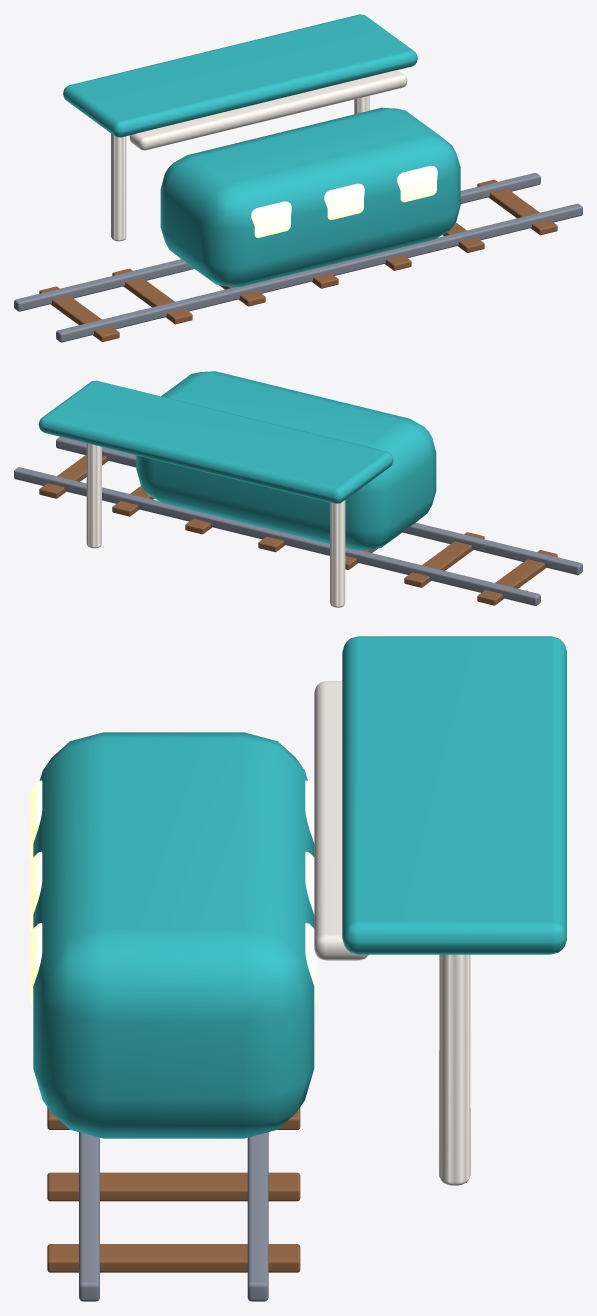
Rendered from corner_metro.glb.
3 renders of one model, top to bottom at view 1: azimuth 30°, elevation 25°; view 2: azimuth 150°, elevation 25°; view 3: azimuth 270°, elevation 25°, orthographic. The views are drawn at different scales.
Parts seen in each view (by area): view 1: Cube; view 2: Cube; view 3: Cube.
Boxes of the visible parts, x1,y1,x2,y2 form: Cube: (14, 14, 582, 342); Cube: (14, 371, 582, 607); Cube: (30, 636, 566, 1301).
Bounding box in the file's own units: 0.86 × 0.2225 × 0.3825.
